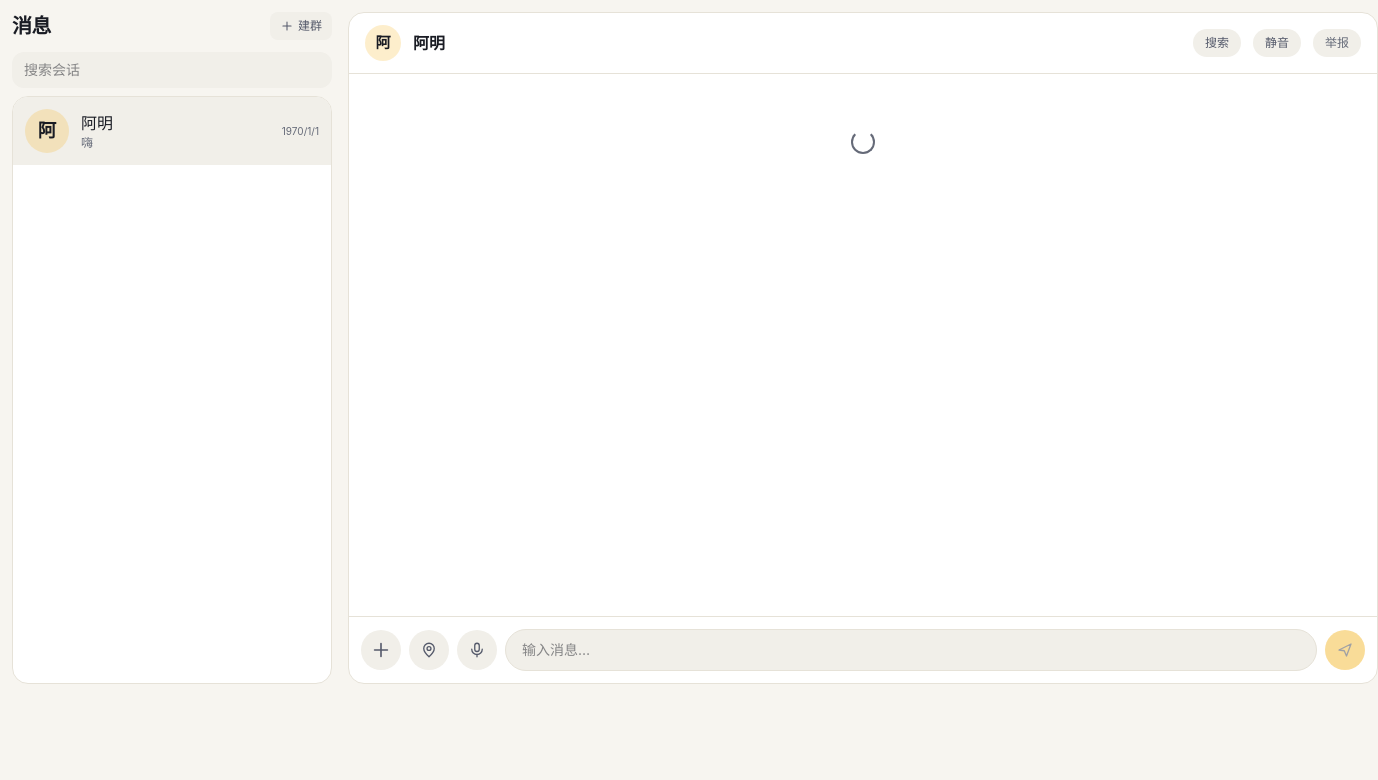
Test: 单聊免打扰 UI › 预选单聊 → 显示"静音"；点击调 muteConversation(true) 并乐观变"已静音"
Click the button with test id "mute-toggle".
click(1277, 43)  # box x1=1253 y1=29 x2=1301 y2=57
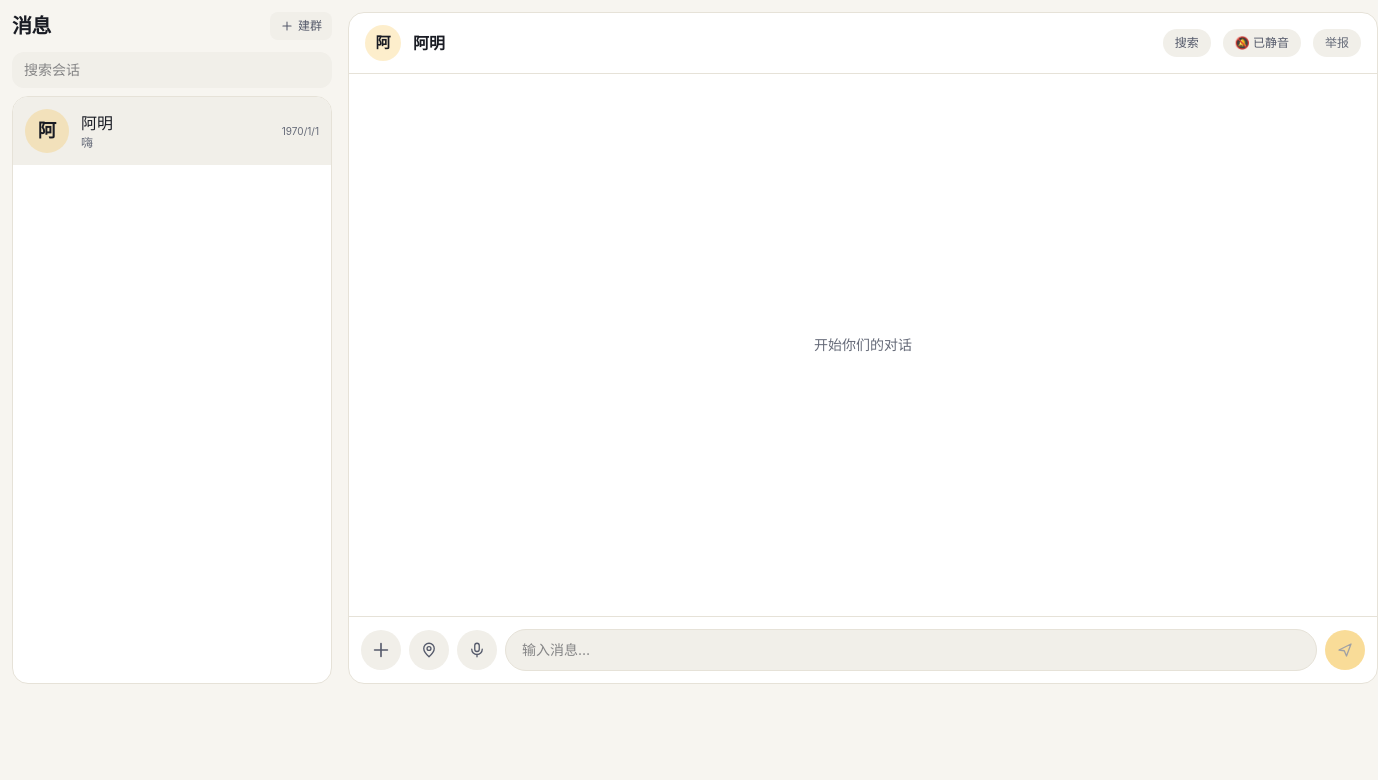
Check: the button with test id "mute-toggle" shows "已静音", box x1=1223 y1=29 x2=1301 y2=57
